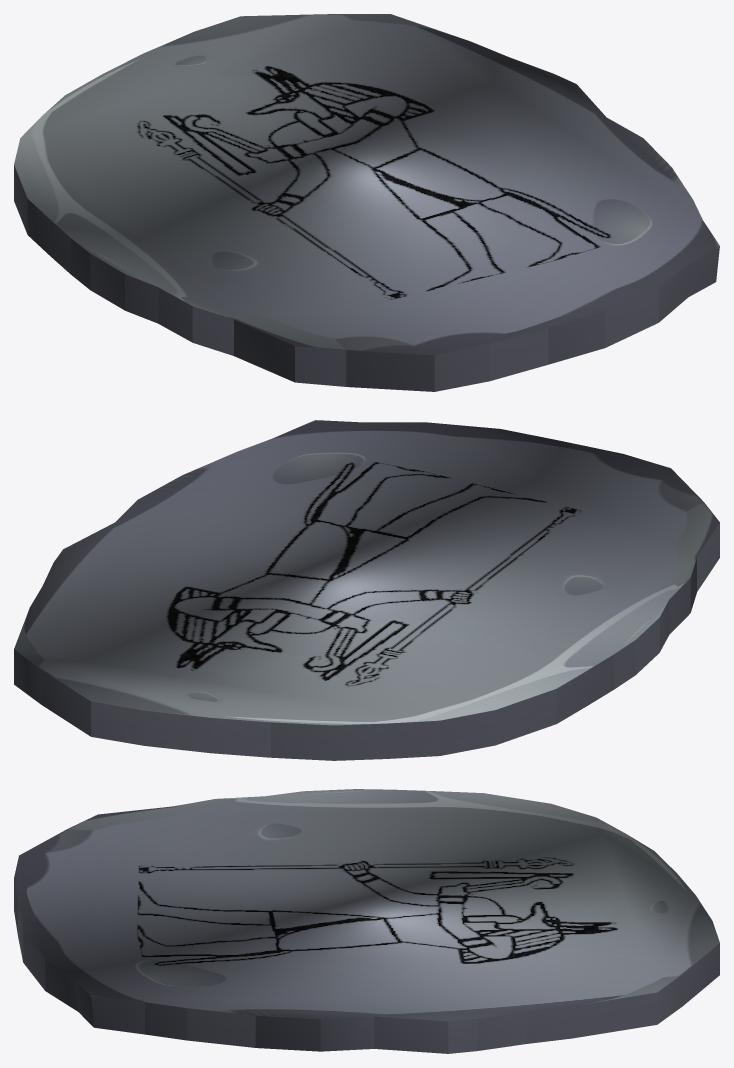
File: runeAnubis.glb
3 views of the same model, one above another, from view 1: azimuth 30°, elevation 25°; view 2: azimuth 150°, elevation 25°; view 3: azimuth 270°, elevation 25° (orthographic). The views are drawn at different scales.
Visible parts, largest first — view 1: rune; view 2: rune; view 3: rune.
Part boxes in pixels (x1,y1,x2,y2): rune: (14,14,719,391); rune: (14,420,719,760); rune: (14,789,719,1053).
Size of the model in its own units: 0.7844 by 0.0509 by 1.01.
1 material, 1 textured.
